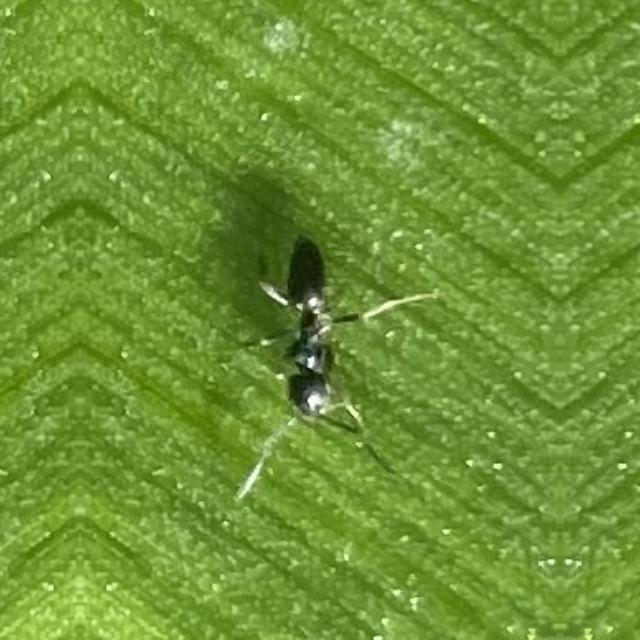Tapinoma: (257, 217, 363, 446)
